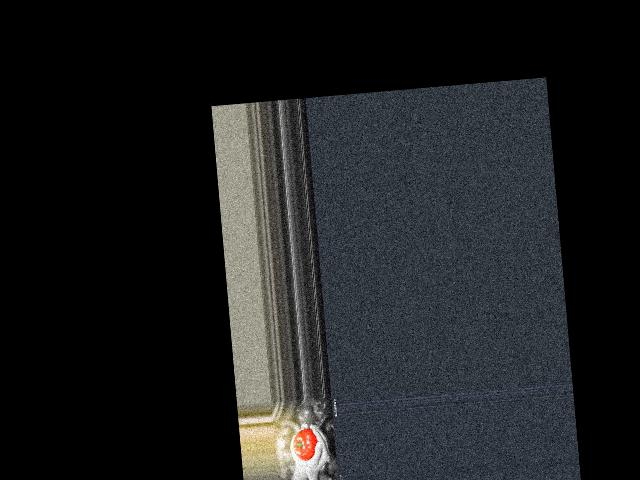tomato: (292, 428, 319, 462)
